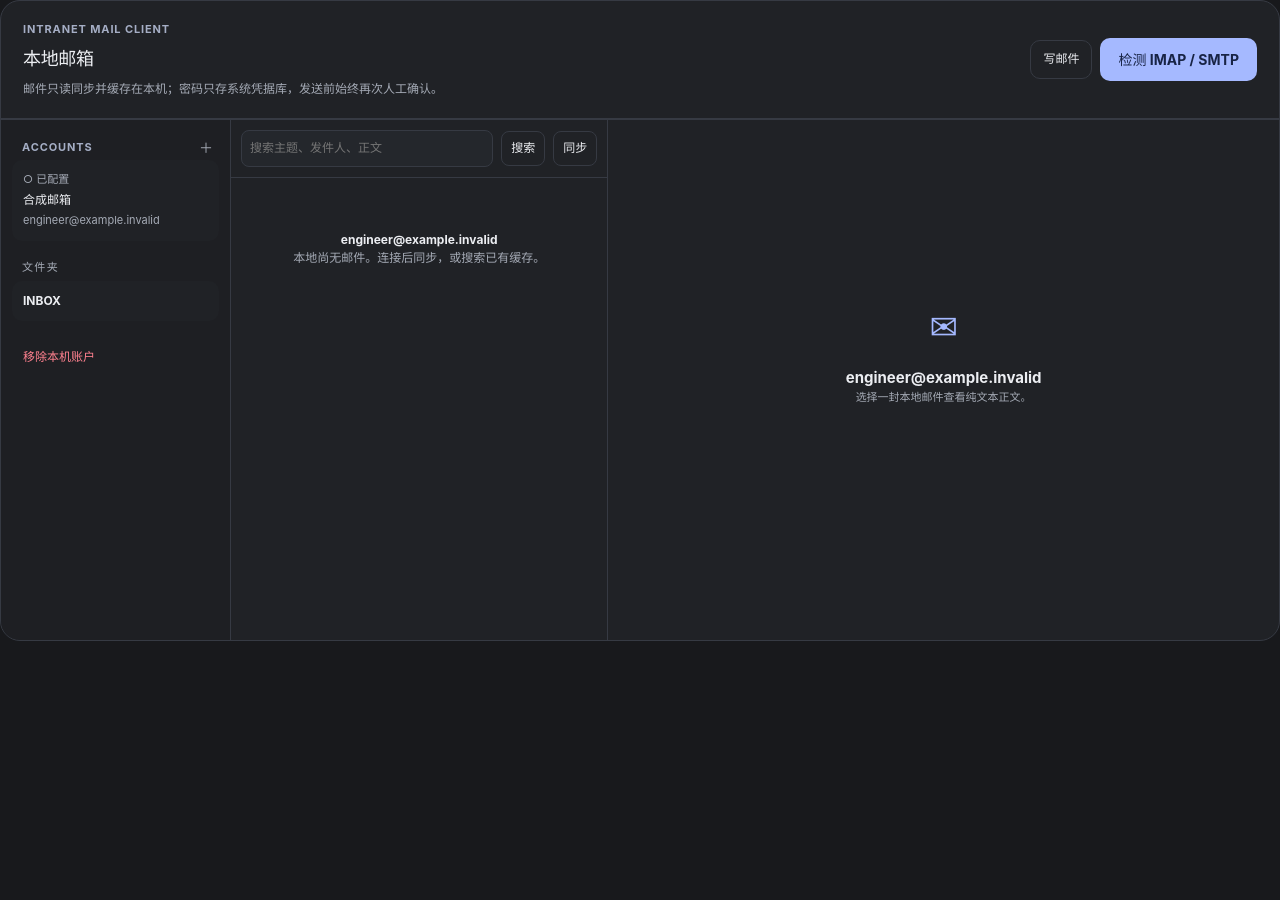
Test case: reports simulated=true delivery accurately after explicit confirmation
Click the button "写邮件".
click(1062, 60)  # box [1030,40,1092,79]
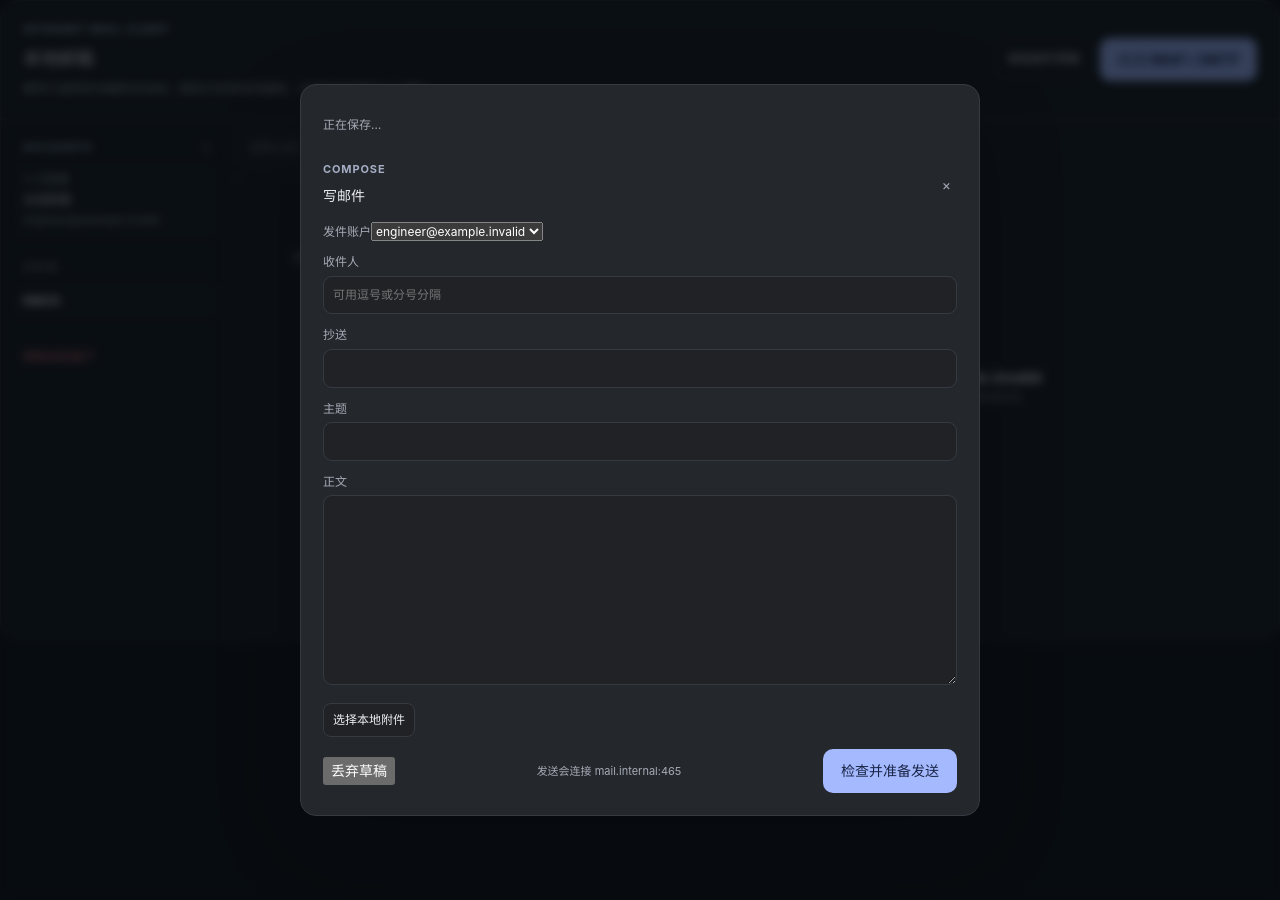
Type "test@example.invalid" into the field labelled "收件人".
click(640, 295); type("test@example.invalid")  # box [323,276,957,314]
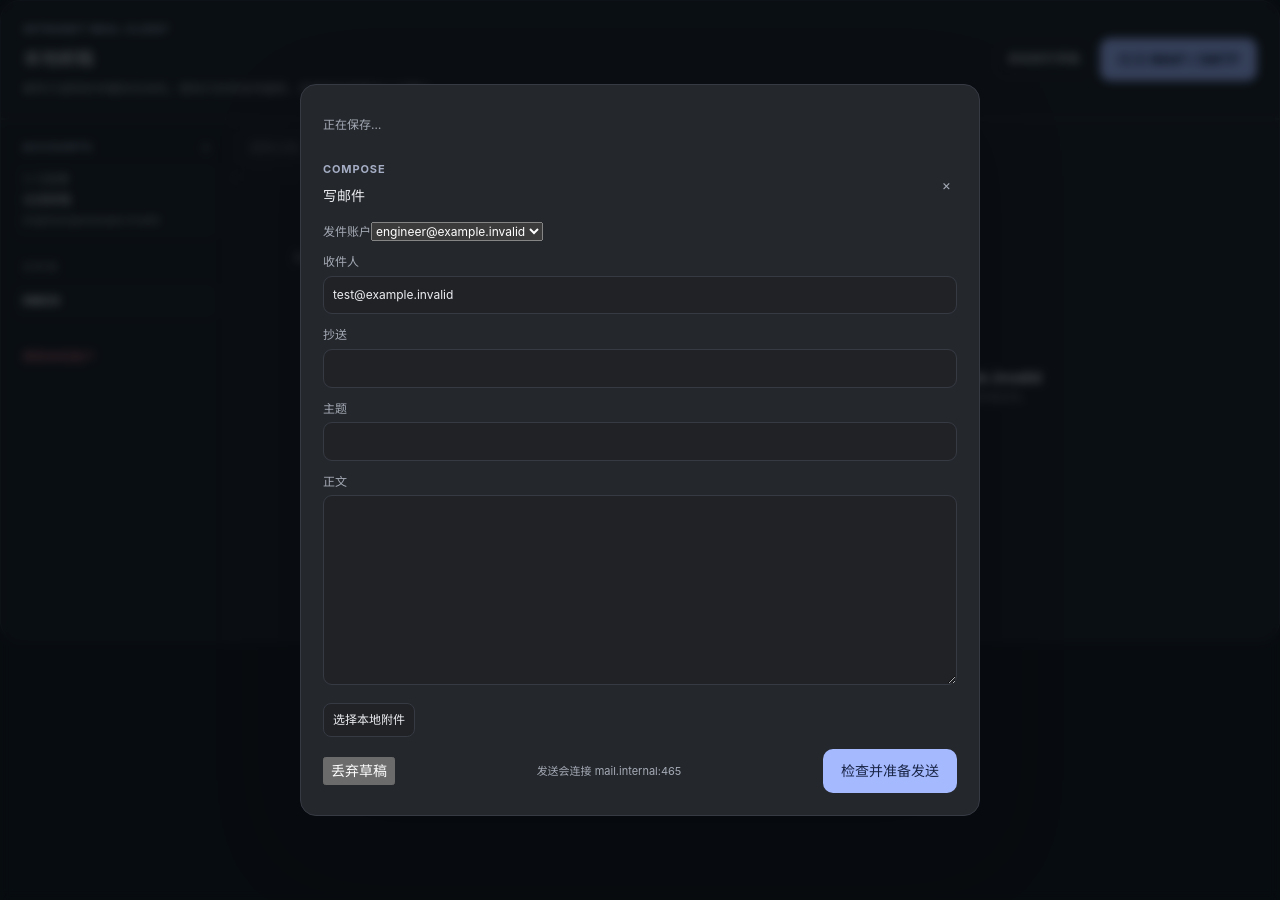
Type "合成发送" into the field labelled "主题".
click(640, 441); type("合成发送")  # box [323,422,957,461]
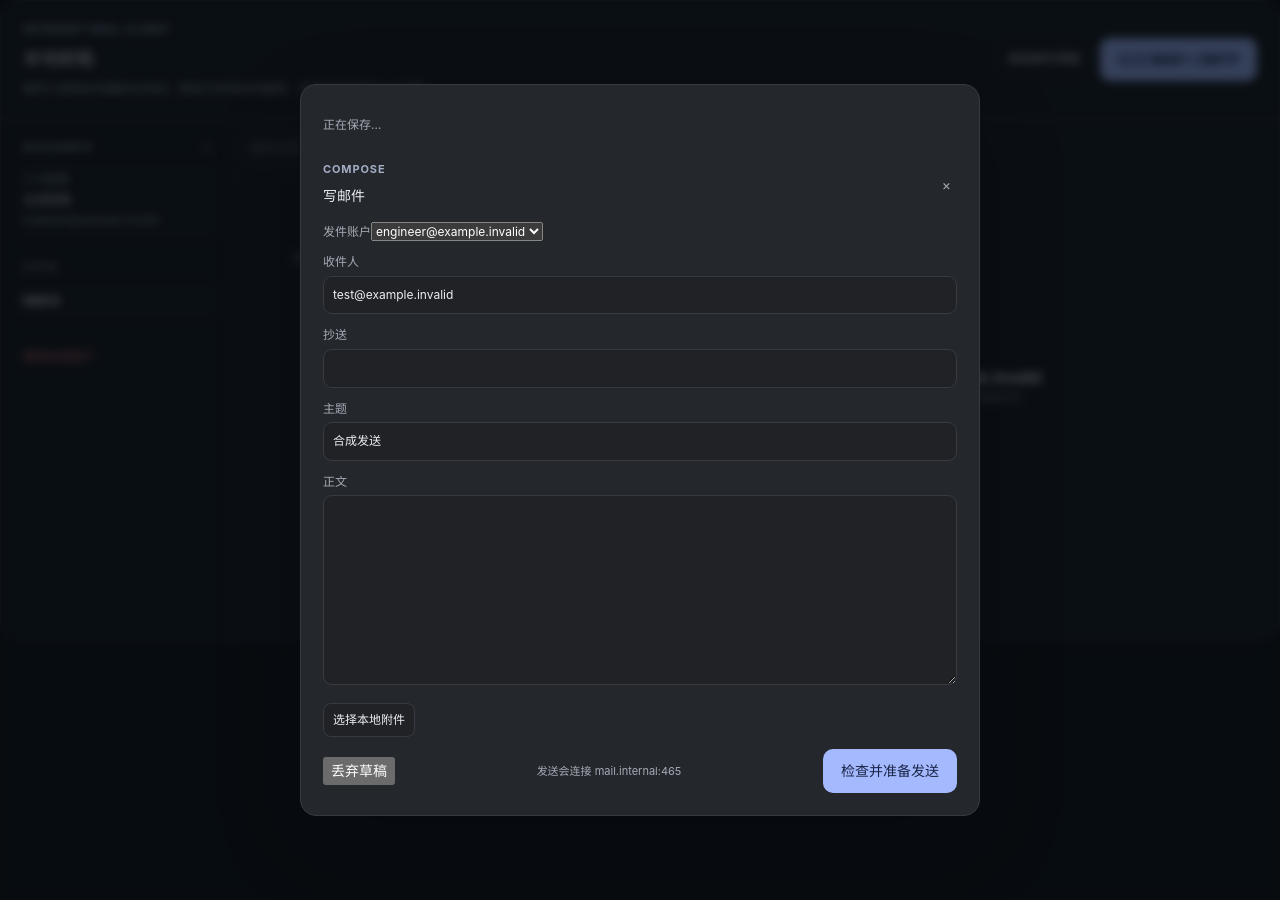
Type "仅本机验收" into the text box labelled "正文".
click(640, 590); type("仅本机验收")  # box [323,495,957,685]
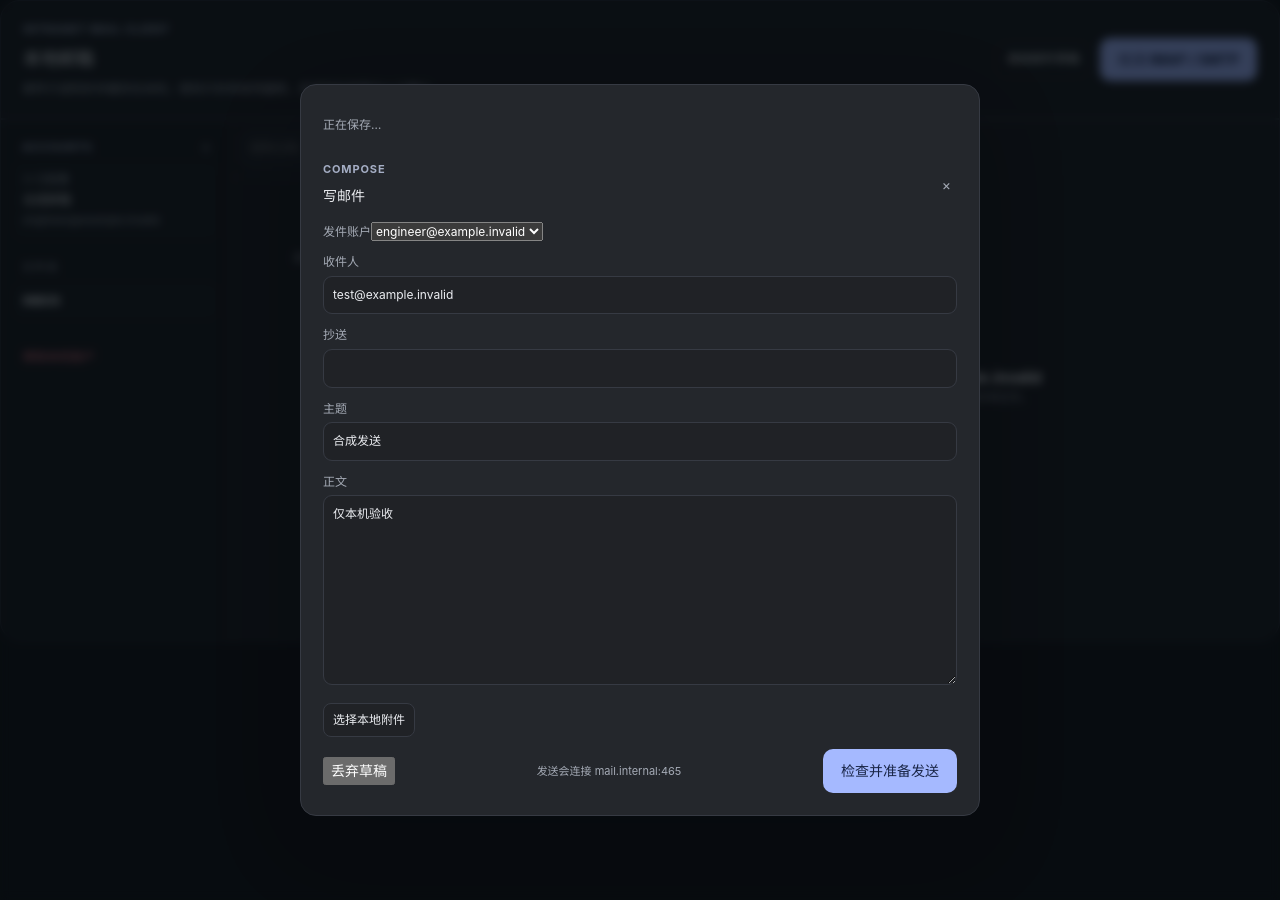
Click the button "检查并准备发送".
click(890, 771)  # box [823,750,957,793]
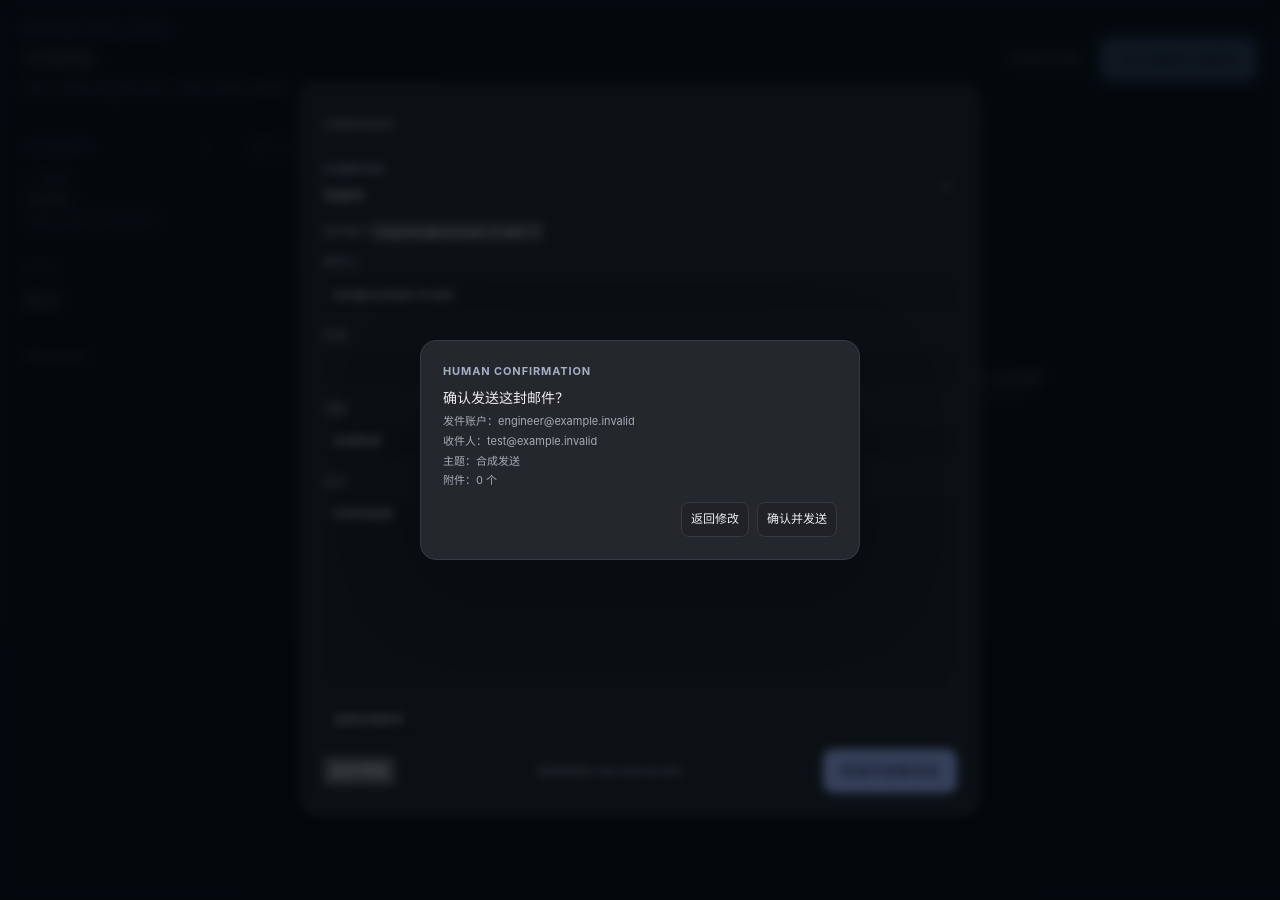
Click the button "确认并发送".
click(797, 520)  # box [757,502,837,537]
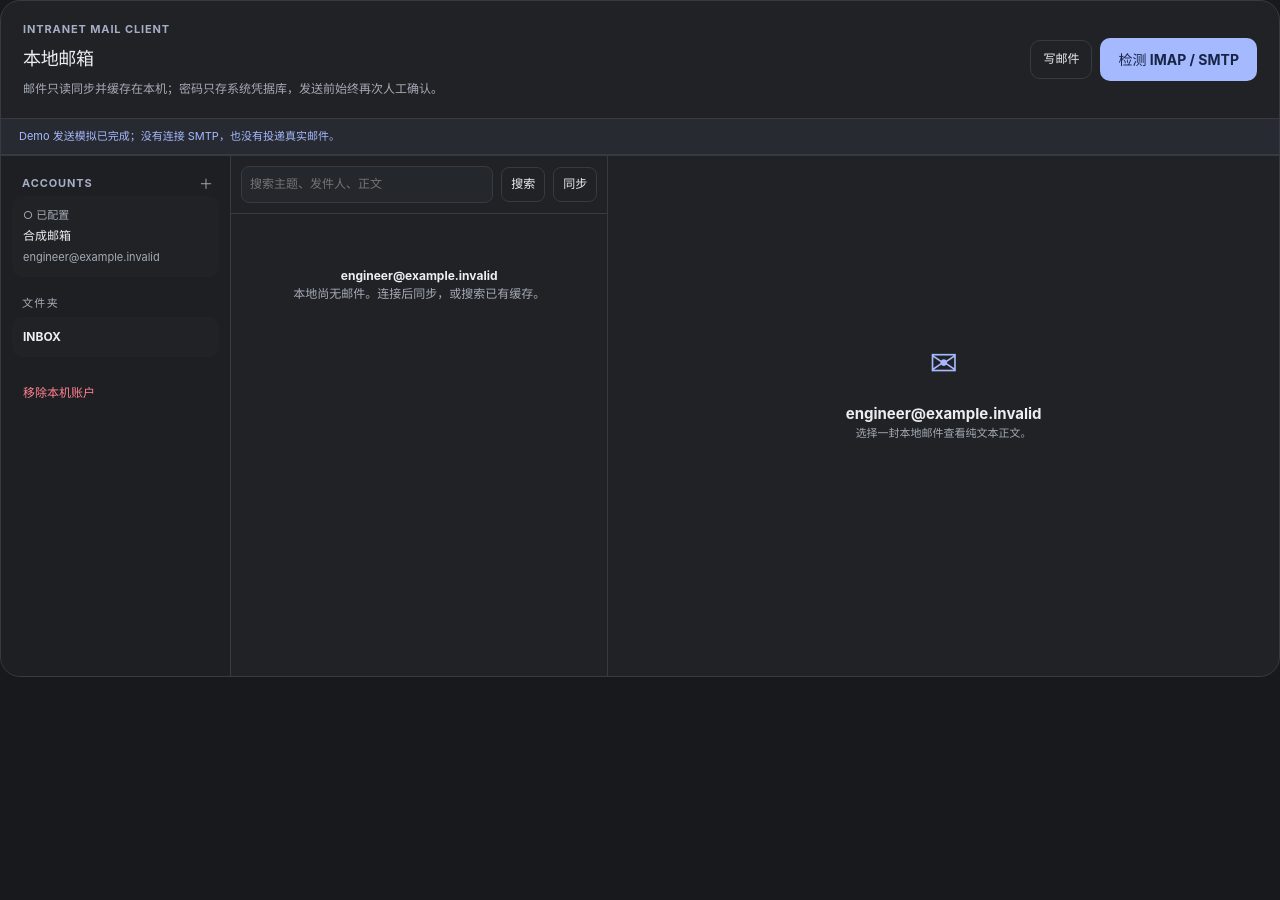
Result: the text "Demo 发送模拟已完成；没有连接 SMTP，也没有投递真实邮件。" is shown at [1,119,1279,155]
